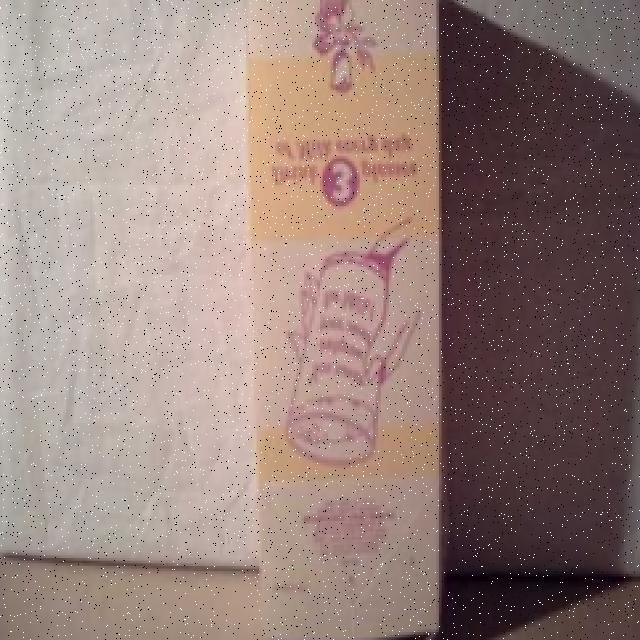box: (0, 0, 640, 548), (267, 0, 458, 640)
